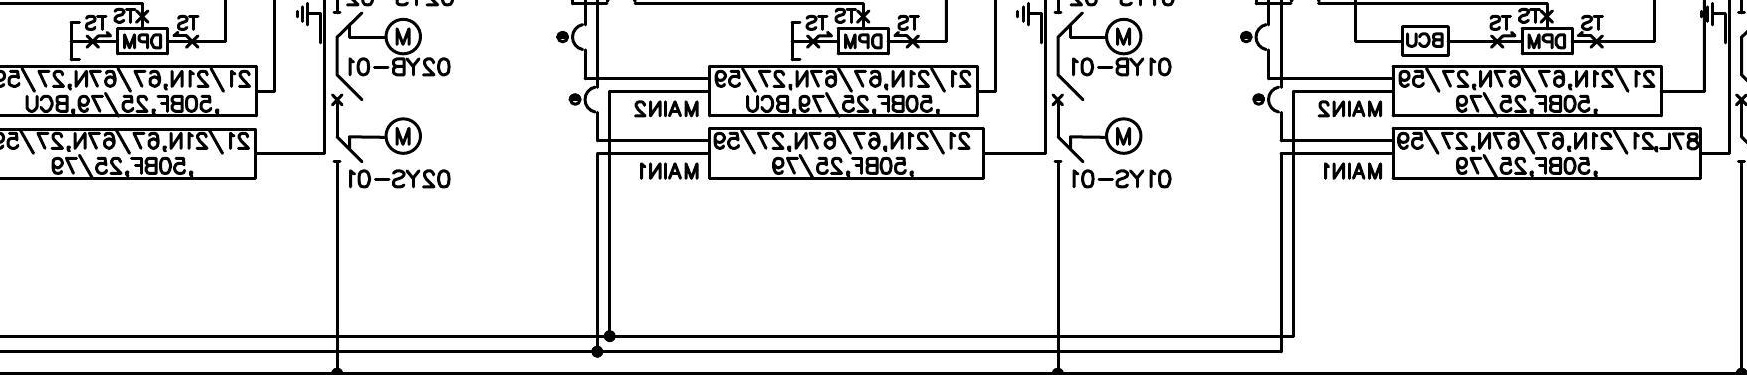115_1way_ds_w_motor: (1053, 117, 1143, 164), (332, 117, 422, 164)
115_3ways_ds_w_motor: (294, 1, 422, 57), (1015, 1, 1143, 56)
115_breaker: (1052, 73, 1084, 107), (331, 73, 363, 107)
BCU: (1400, 24, 1451, 58)
DPM: (1521, 27, 1574, 56), (837, 27, 890, 56), (116, 27, 169, 56)
